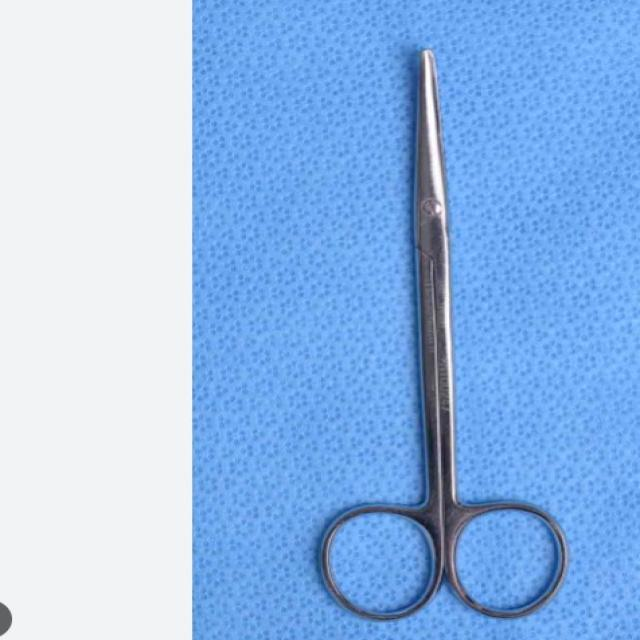Metzenbaum Sciccors: (314, 25, 573, 629)
